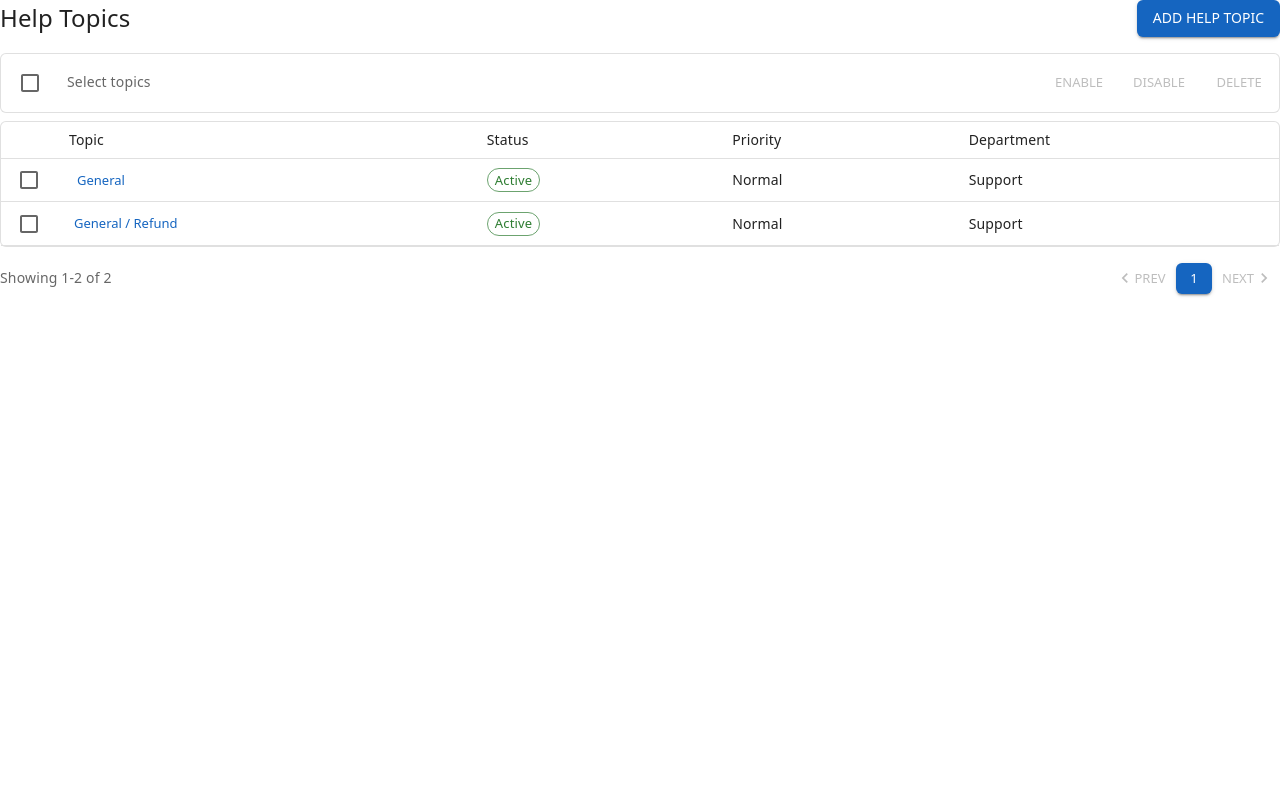
Test: HelpTopicListPage (TS-M4-C6) › AC-4: parent select offers top-level topics only
The image size is (1280, 800).
Expected: the button "General" is shown, [69,164,133,195]
Click the button with test id "add-help-topic" at [1208, 18], box [1137,0,1279,36]
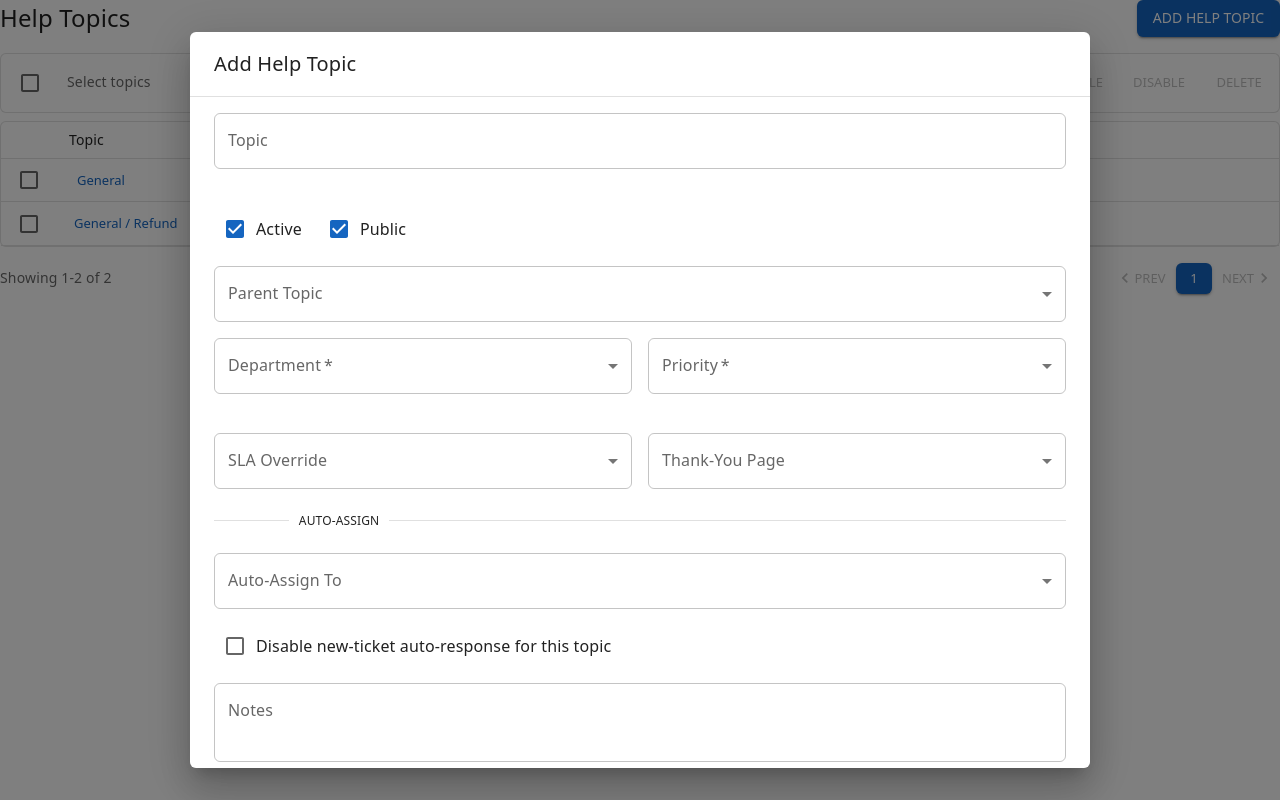
Click the dropdown named "Parent Topic" next to "Parent Topic" at [640, 294], box [214,266,1066,322]
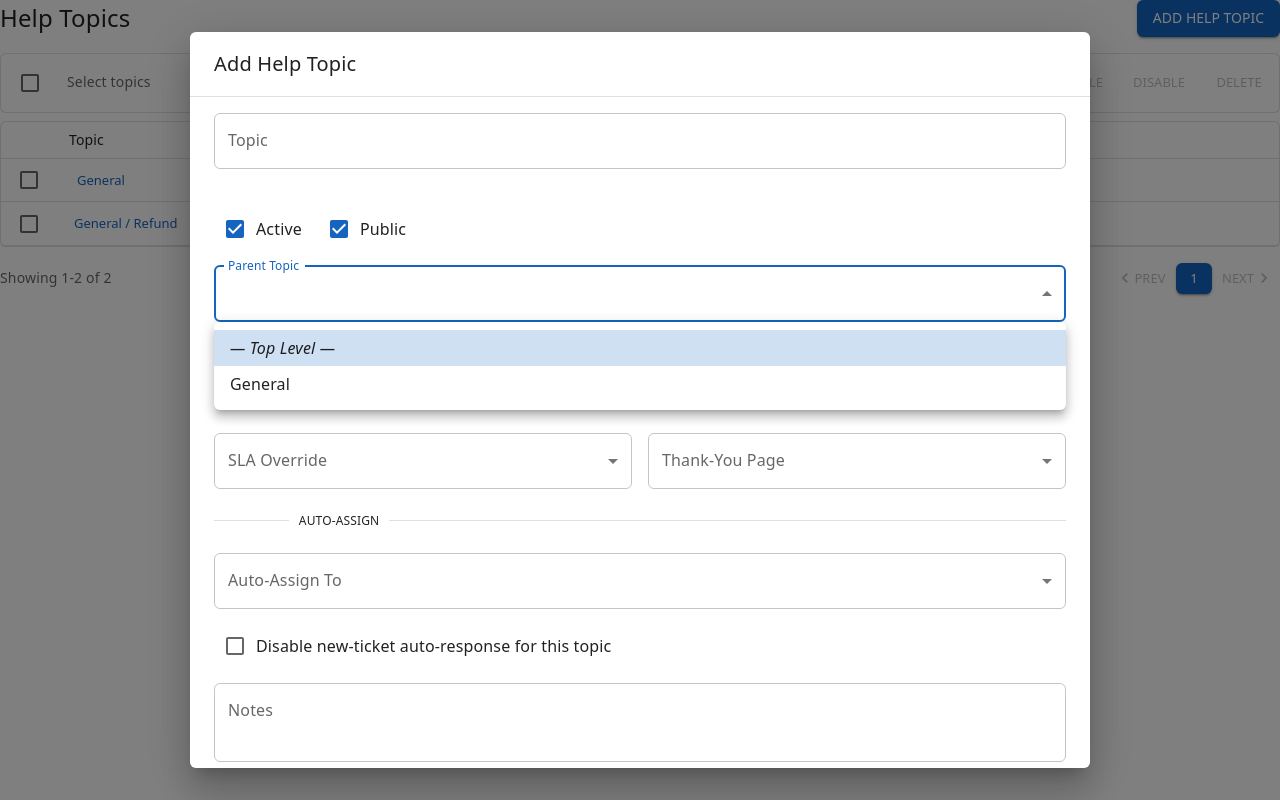
Now the option "General" is shown, box [230,373,290,395]
